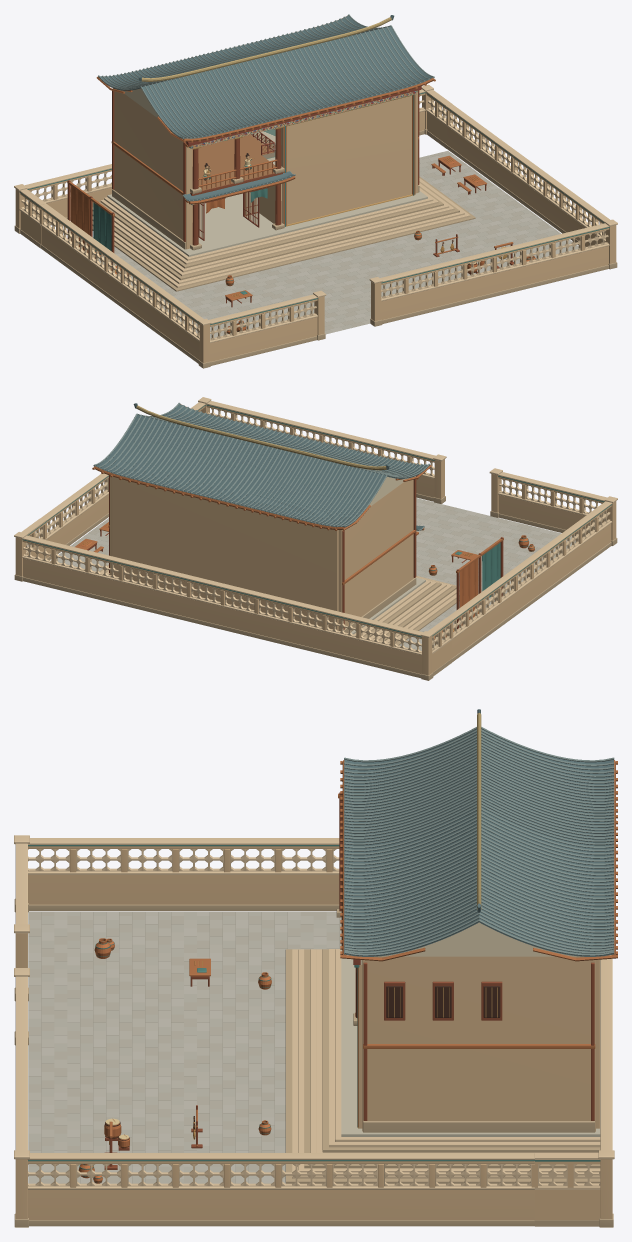
Rendered from music-pavilion.glb.
The picture shows the model from 3 angles, top to bottom: view 1: azimuth 30°, elevation 25°; view 2: azimuth 150°, elevation 25°; view 3: azimuth 270°, elevation 25°; orthographic projection. The views are drawn at different scales.
Visible parts, largest first — view 1: architecture--plaster.001, court-paving--court-limestone-0, courtyard-enclosure--plaster.001, main-roof--tile.001, courtyard-enclosure--stone-light.001, main-roof--tile-edge.001, terraced-foundation--stone-light, terraced-foundation--stone, terraced-foundation--music-decor-stone, courtyard-enclosure--stone, music-interior-floor--music-decor-wood, porch--wood.001 (+17 smaller); view 2: architecture--plaster.001, courtyard-enclosure--plaster.001, courtyard-enclosure--stone-light.001, main-roof--tile.001, main-roof--tile-edge.001, court-paving--court-limestone-0, courtyard-enclosure--stone, terraced-foundation--stone-light, courtyard-enclosure--teal.001, main-roof--wood-light.001, main-roof--music-decor-ochre, terraced-foundation--stone (+5 smaller); view 3: court-paving--court-limestone-0, main-roof--tile-edge.001, architecture--plaster.001, courtyard-enclosure--plaster.001, main-roof--tile.001, courtyard-enclosure--stone-light.001, terraced-foundation--stone-light, terraced-foundation--stone, courtyard-enclosure--stone, court-paving--court-fine-joints, terraced-foundation--music-decor-stone, mural-frame--stone.001 (+9 smaller).
Boxes of the visible parts, x1,y1,x2,y2 form: architecture--plaster.001: (113,88,417,249); court-paving--court-limestone-0: (93,151,578,338); courtyard-enclosure--plaster.001: (15,92,616,363); main-roof--tile.001: (99,15,432,138); courtyard-enclosure--stone-light.001: (14,84,617,343); main-roof--tile-edge.001: (98,14,434,139); terraced-foundation--stone-light: (92,178,470,287); terraced-foundation--stone: (92,176,475,291); terraced-foundation--music-decor-stone: (107,157,427,256); courtyard-enclosure--stone: (14,129,617,368); music-interior-floor--music-decor-wood: (192,134,275,190); porch--wood.001: (190,128,282,245); architecture--plaster.001: (110,476,415,631); courtyard-enclosure--plaster.001: (15,404,616,675); courtyard-enclosure--stone-light.001: (14,397,617,655); main-roof--tile.001: (95,403,429,526); main-roof--tile-edge.001: (93,402,430,527); court-paving--court-limestone-0: (57,498,575,650); courtyard-enclosure--stone: (14,493,617,680); terraced-foundation--stone-light: (100,566,459,643); courtyard-enclosure--teal.001: (22,404,612,637); main-roof--wood-light.001: (92,404,431,530); main-roof--music-decor-ochre: (136,405,386,470); terraced-foundation--stone: (99,564,459,645); court-paving--court-limestone-0: (28,912,341,1183); main-roof--tile-edge.001: (344,727,614,955); architecture--plaster.001: (358,956,599,1131); courtyard-enclosure--plaster.001: (15,846,612,1219); main-roof--tile.001: (344,709,613,956); courtyard-enclosure--stone-light.001: (14,835,614,1189); terraced-foundation--stone-light: (292,949,600,1178); terraced-foundation--stone: (285,949,600,1183); courtyard-enclosure--stone: (14,898,613,1227); court-paving--court-fine-joints: (28,912,339,1183); terraced-foundation--music-decor-stone: (341,949,600,1136); mural-frame--stone.001: (363,1121,595,1132).
Size of the model in its own units: 46.98 by 17.83 by 37.27.
35 materials, 1 textured.
